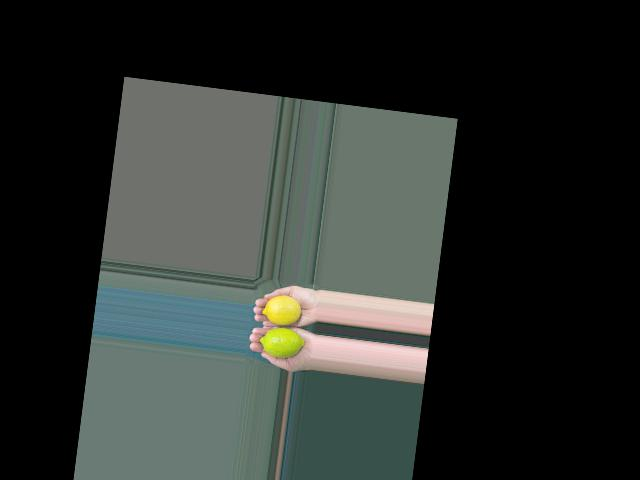lemon: (261, 293, 304, 327)
